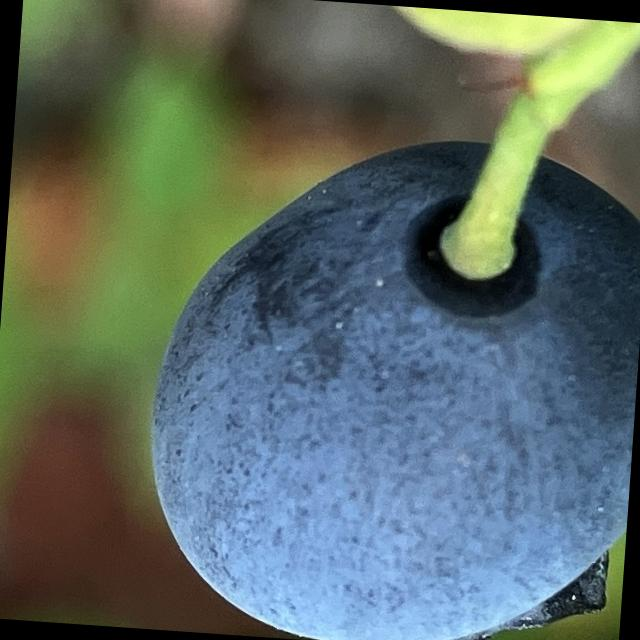Blueberries: (128, 118, 640, 640)
